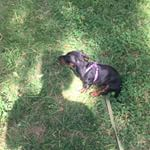puppy: (54, 48, 126, 102)
